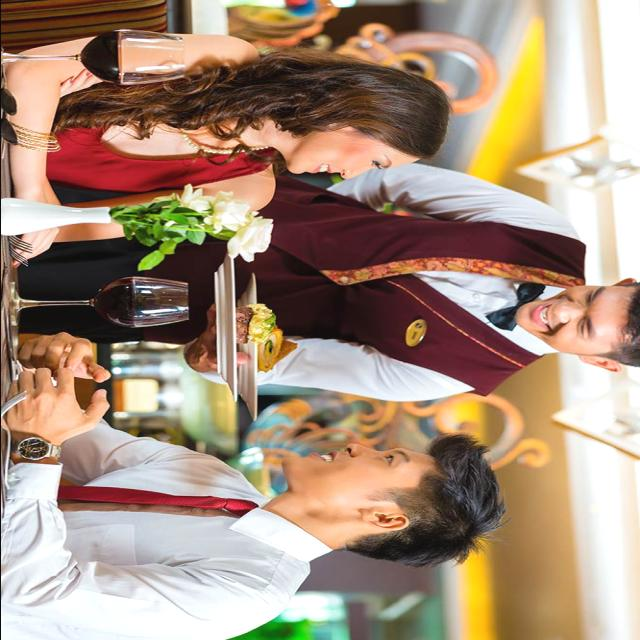person: (0, 401, 497, 640), (223, 172, 632, 415), (0, 45, 440, 251)
